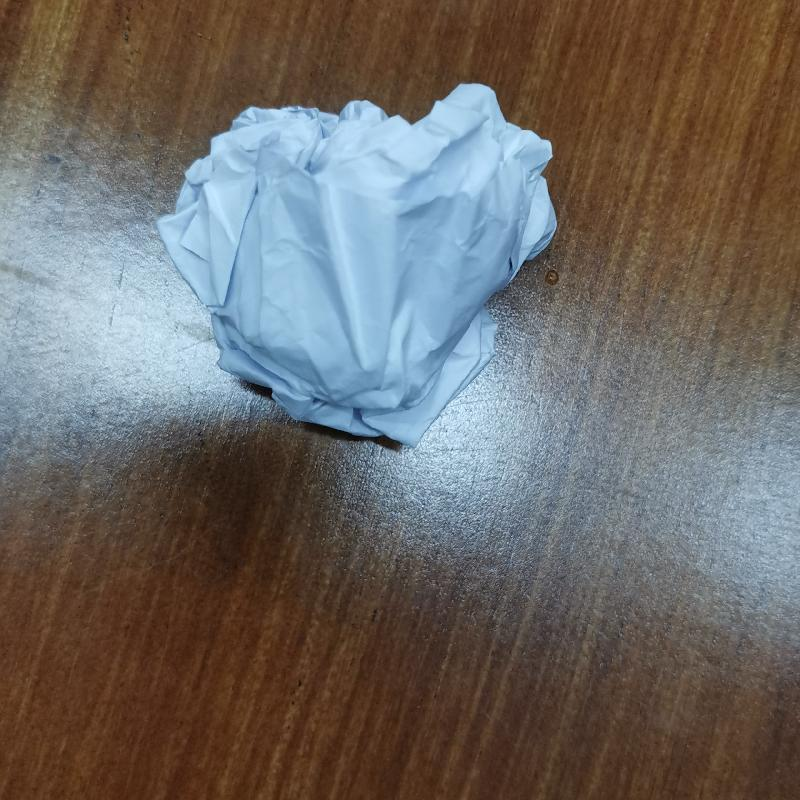spitball: (147, 81, 563, 456)
